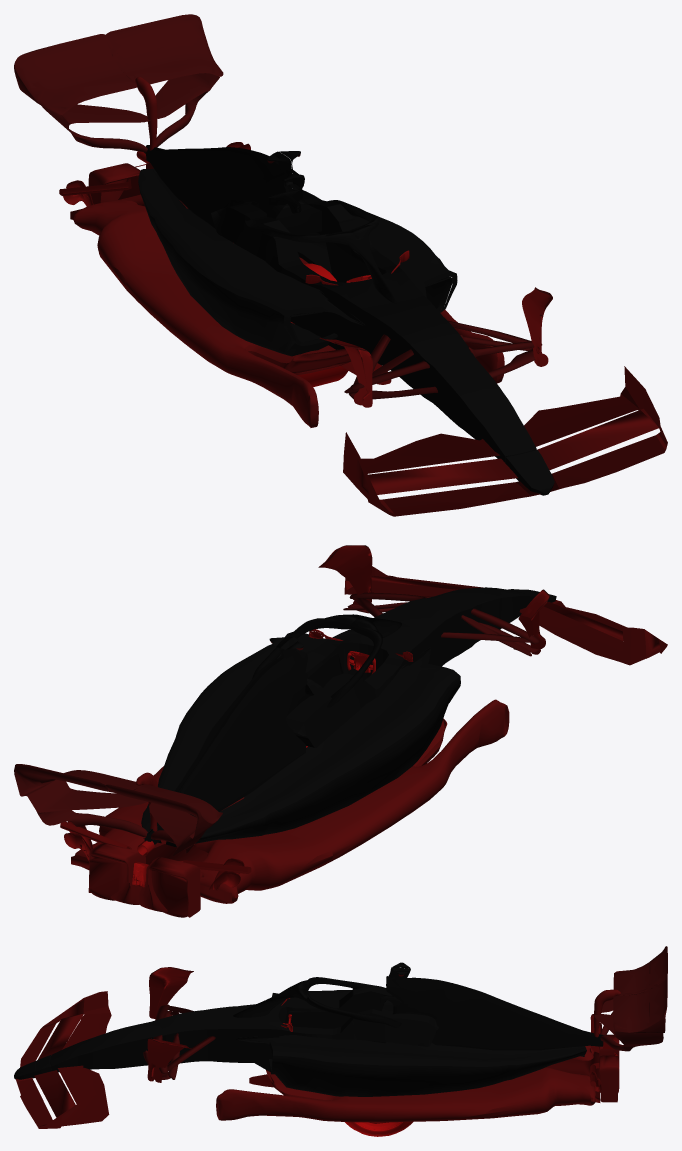
File: gr-car.glb
3 views of the same model, one above another, from view 1: azimuth 30°, elevation 25°; view 2: azimuth 150°, elevation 25°; view 3: azimuth 270°, elevation 25° (orthographic). The views are drawn at different scales.
Parts seen in each view (by area): view 1: body, wheel_r; view 2: body; view 3: body, wheel_r.
Boxes of the visible parts, left/top/right/bottom form: body: left=14, top=14, right=667, bottom=516; wheel_r: left=291, top=263, right=348, bottom=387; body: left=14, top=545, right=667, bottom=917; body: left=14, top=946, right=667, bottom=1128; wheel_r: left=345, top=1121, right=413, bottom=1136.
Size of what is drawn, in the model's own units: 2.03 by 1.45 by 5.33.
